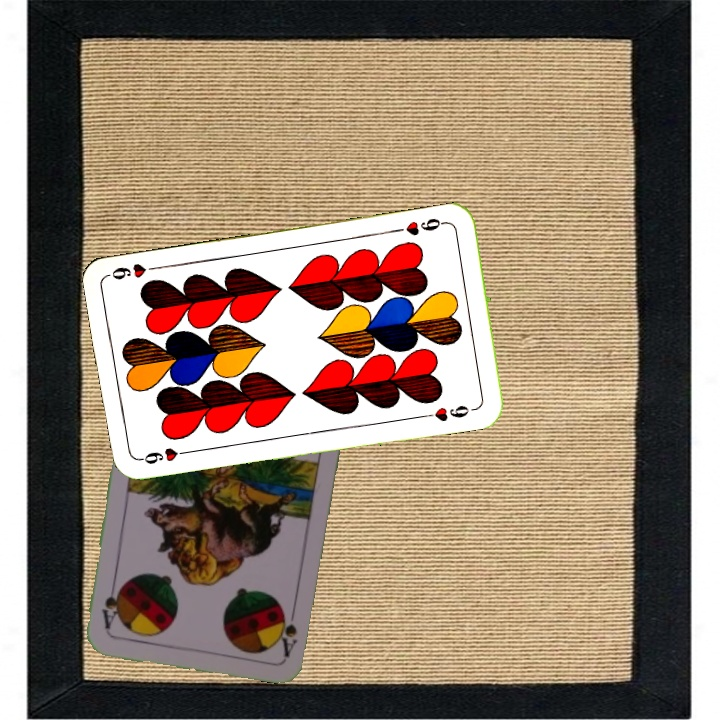H9: (393, 214, 452, 238), (135, 443, 194, 467)
SA: (277, 600, 300, 659)
